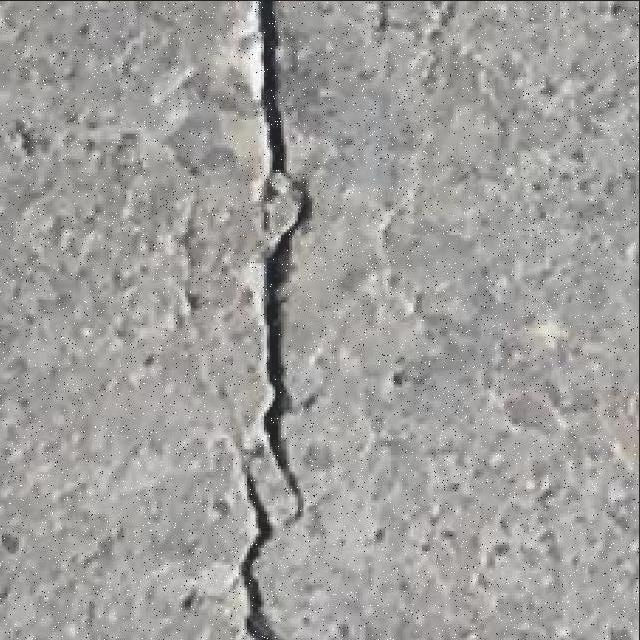crack: (247, 0, 307, 616)
